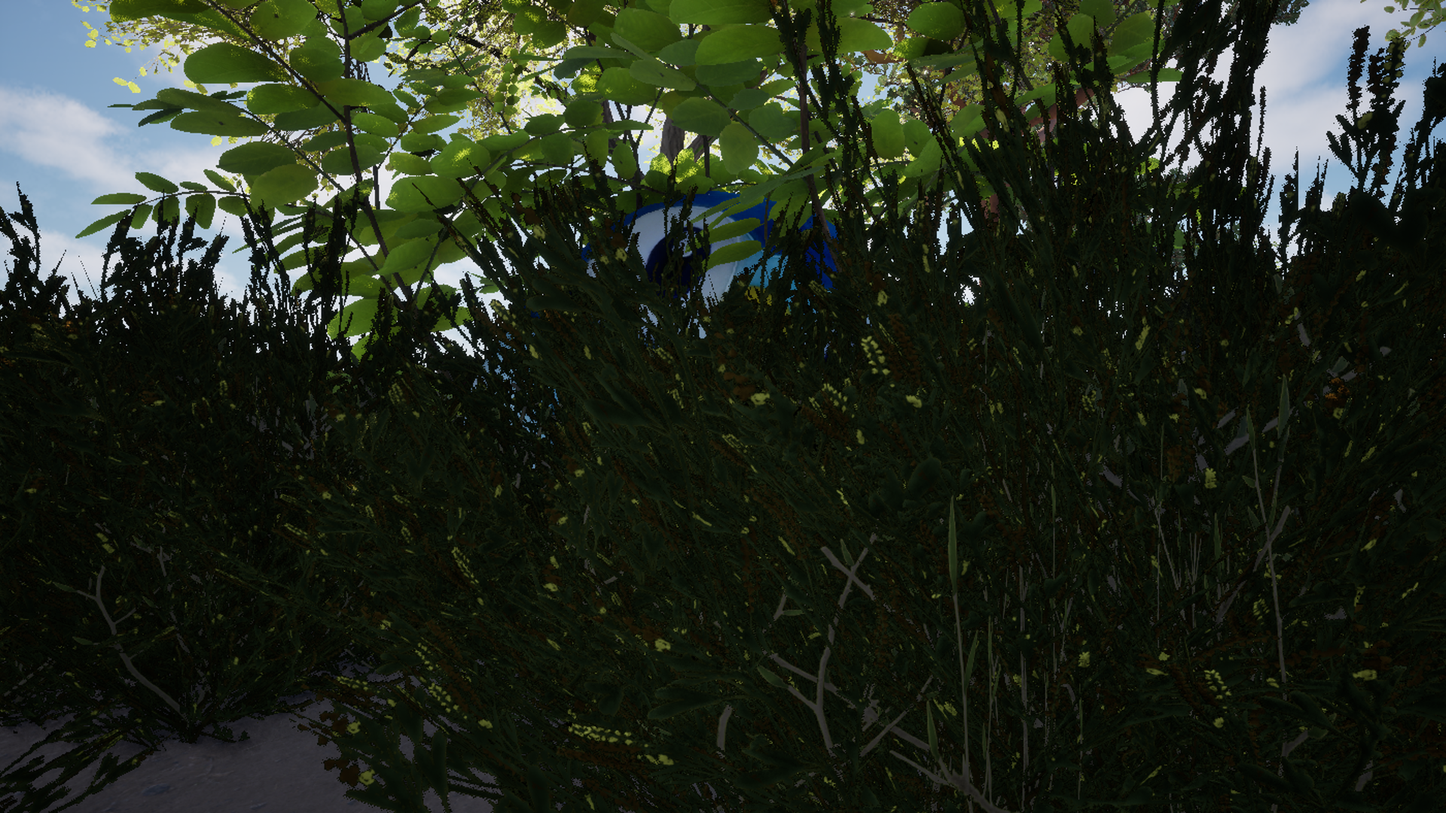Piplup: (350, 40, 1096, 773)
